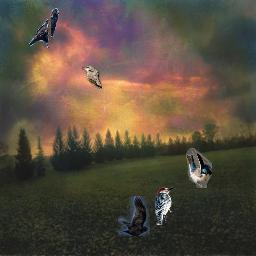Crow: (118, 196, 150, 236), (29, 8, 59, 48)
Cuckoo: (82, 66, 102, 89)
Swallow: (186, 148, 212, 188)
Woodpecker: (154, 185, 175, 225)
